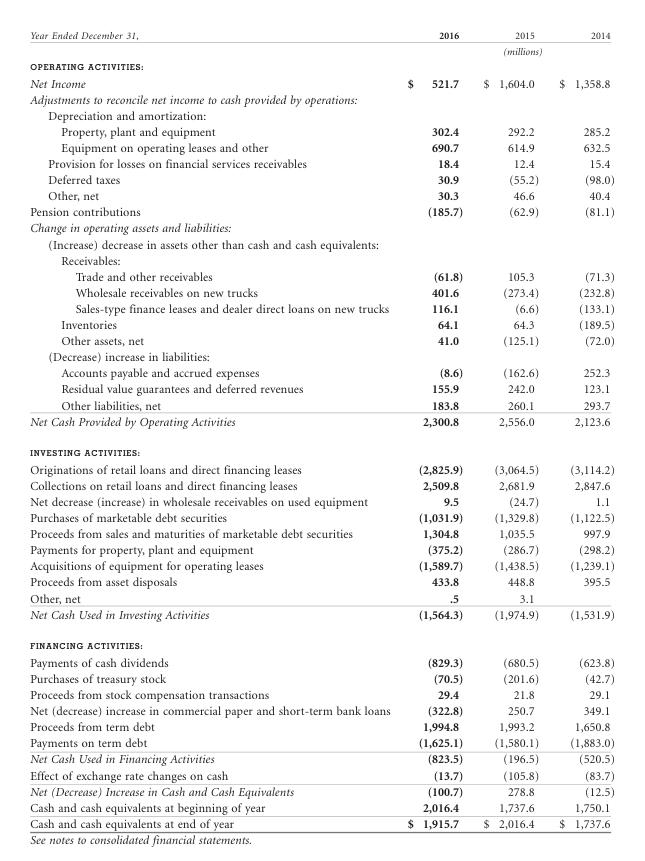table: (29, 29, 613, 829)
table column: (29, 29, 398, 829), (472, 29, 548, 829), (398, 29, 472, 829), (548, 29, 613, 829)
table column header: (29, 29, 613, 58)
table projected row header: (29, 437, 613, 460), (29, 630, 613, 653), (29, 219, 613, 236), (29, 91, 613, 107), (29, 107, 613, 123), (29, 236, 613, 252), (29, 252, 613, 268), (29, 348, 613, 364), (29, 58, 613, 73)
table row: (29, 412, 613, 437), (29, 606, 613, 630), (29, 437, 613, 460), (29, 630, 613, 653), (29, 73, 613, 91), (29, 219, 613, 236), (29, 460, 613, 477), (29, 589, 613, 606), (29, 653, 613, 670), (29, 766, 613, 783), (29, 42, 613, 58), (29, 91, 613, 107), (29, 107, 613, 123), (29, 123, 613, 139), (29, 139, 613, 155), (29, 155, 613, 171), (29, 171, 613, 187), (29, 187, 613, 203), (29, 203, 613, 219), (29, 236, 613, 252), (29, 252, 613, 268), (29, 268, 613, 284), (29, 284, 613, 300), (29, 300, 613, 316), (29, 316, 613, 332), (29, 332, 613, 348), (29, 348, 613, 364), (29, 364, 613, 380), (29, 380, 613, 396), (29, 396, 613, 412), (29, 477, 613, 493), (29, 493, 613, 509), (29, 509, 613, 525), (29, 525, 613, 541), (29, 541, 613, 557), (29, 557, 613, 573), (29, 573, 613, 589), (29, 670, 613, 686), (29, 686, 613, 702), (29, 702, 613, 718), (29, 718, 613, 734), (29, 734, 613, 750), (29, 750, 613, 766), (29, 783, 613, 799), (29, 799, 613, 815), (29, 58, 613, 73), (29, 815, 613, 829), (29, 29, 613, 42)
table spanning cell: (29, 29, 398, 58), (398, 42, 613, 58)
